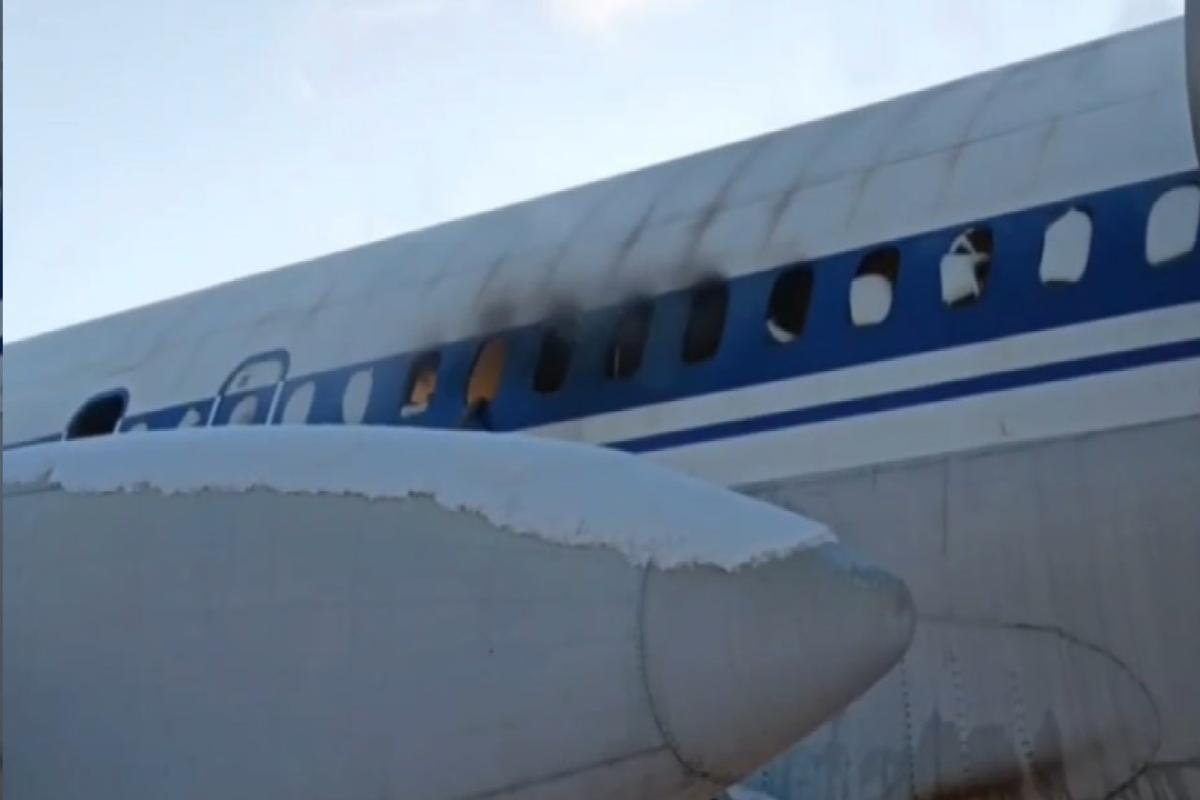Fuselage_damage: (4, 421, 844, 584), (940, 228, 991, 306), (682, 281, 728, 363), (607, 300, 654, 379), (852, 247, 898, 326), (767, 264, 813, 343), (466, 336, 508, 420), (67, 388, 128, 439), (532, 327, 574, 393), (400, 352, 438, 417)
